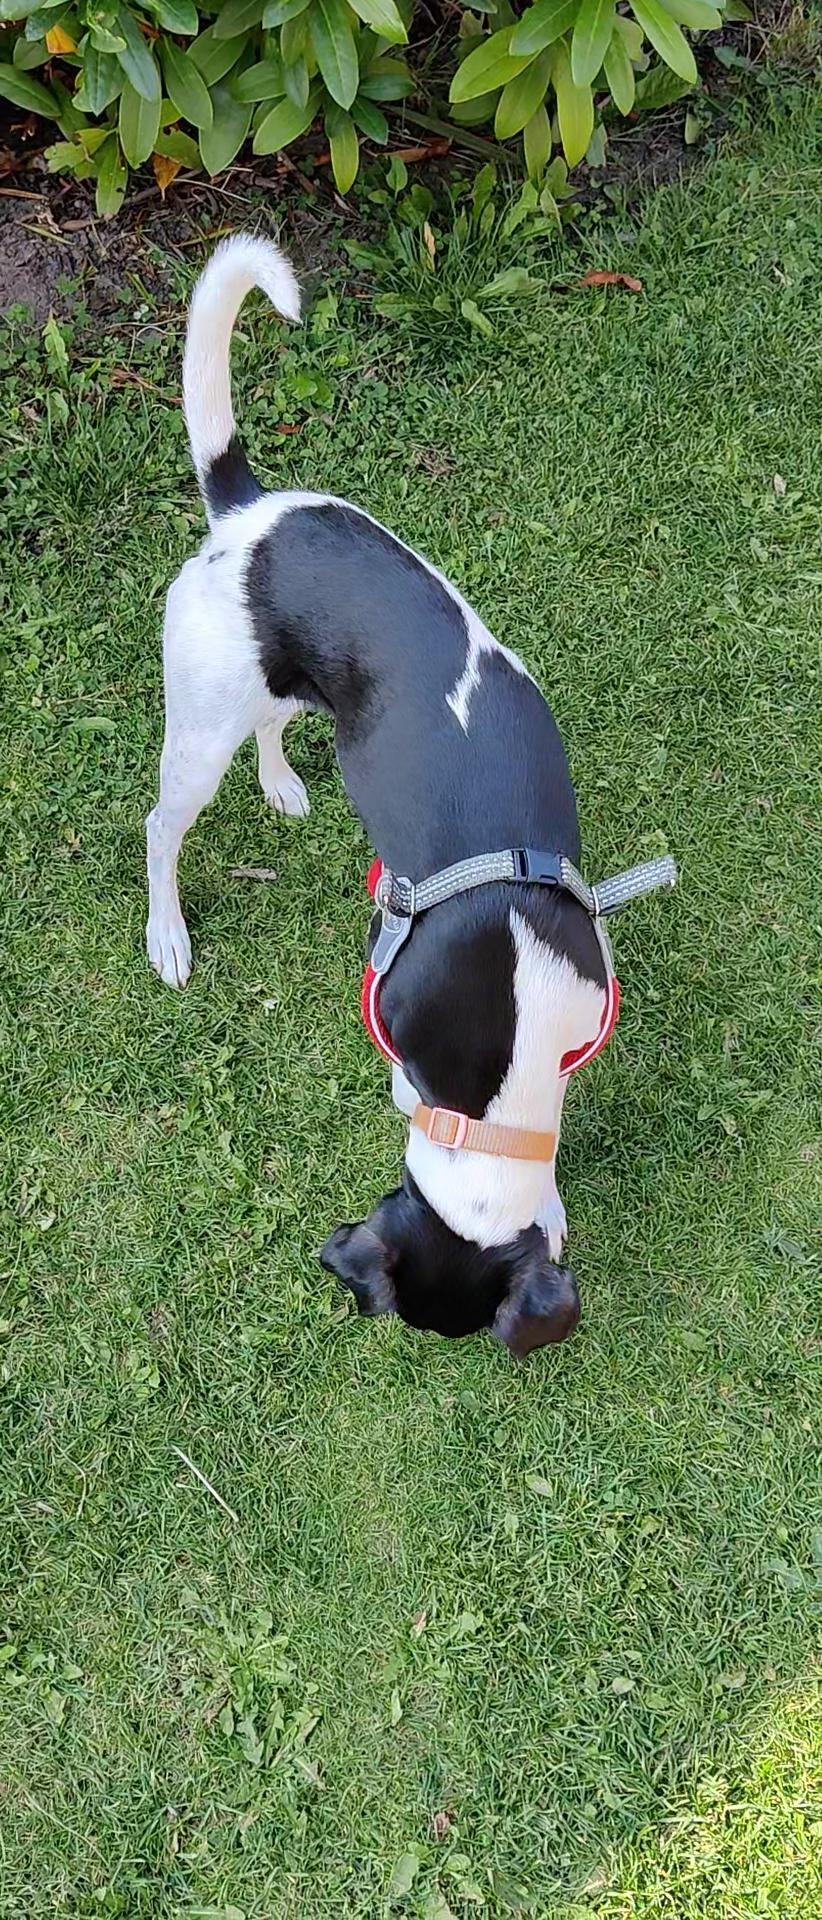Dog: (107, 227, 655, 1367)
